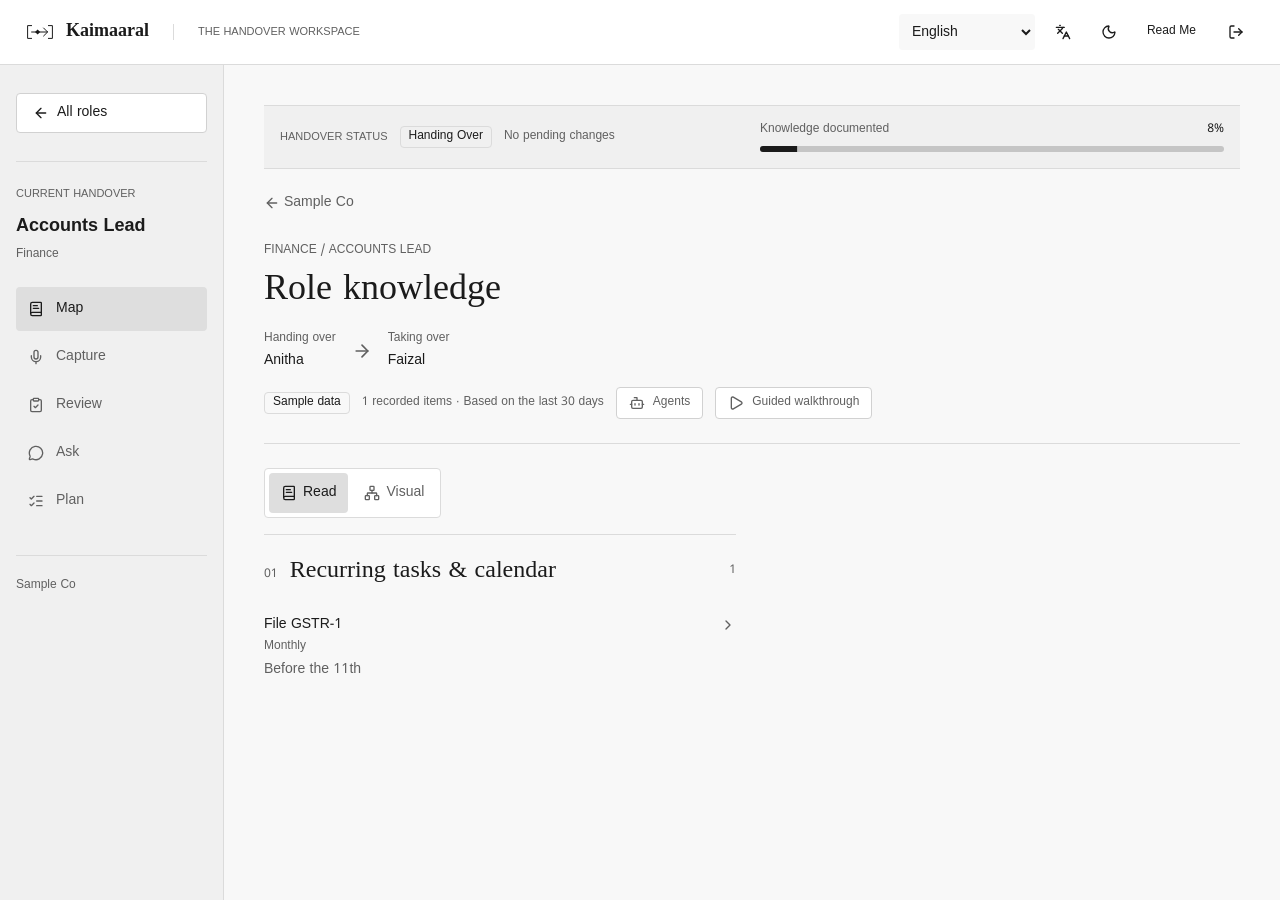
Test: Role page tabs › Ask tab sends a question and shows the answer
The image size is (1280, 900).
Click the tab "Ask" at [112, 453], box [16,431,207,475]
(page scrolled)
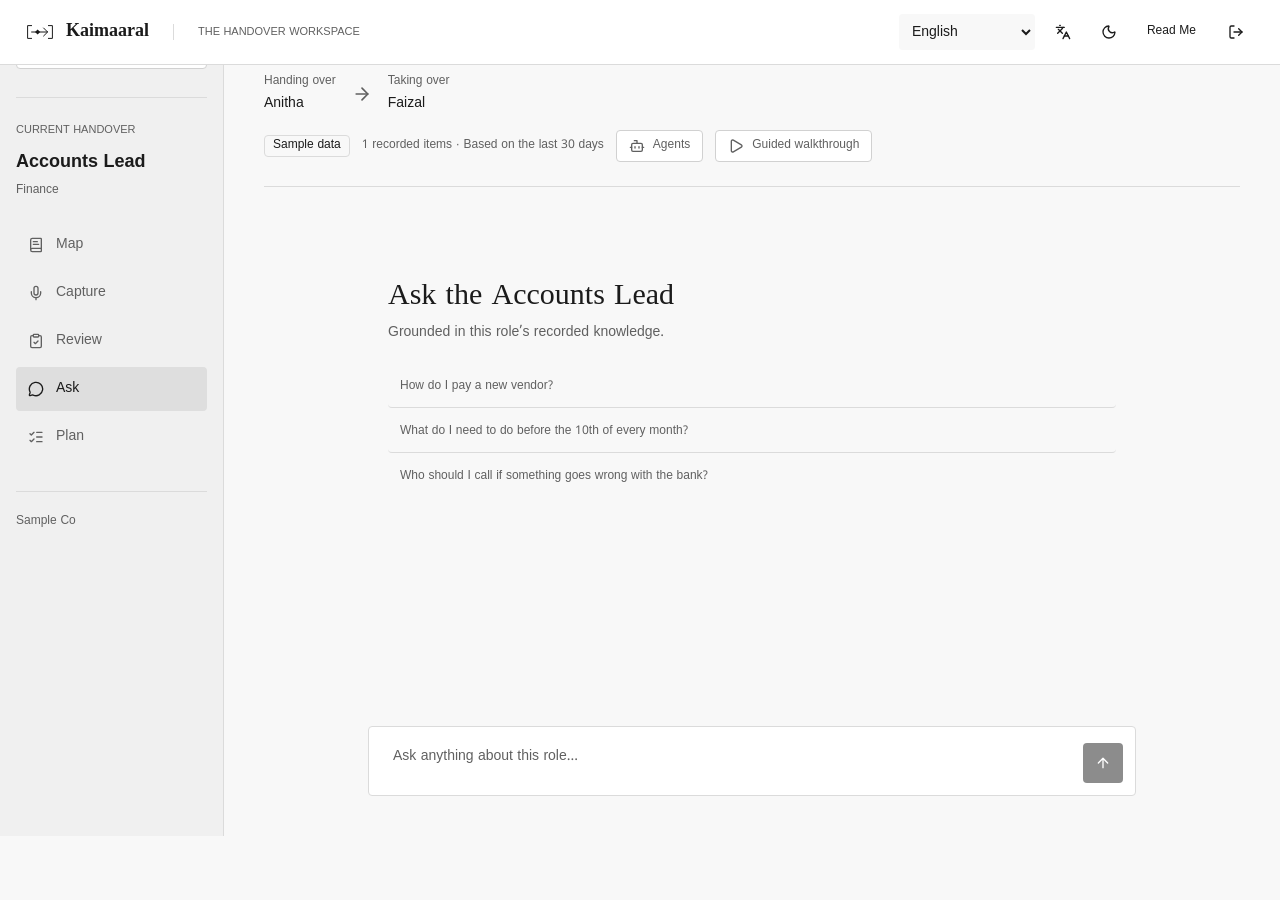
Type "How do I pay?" into the text box named "Your question" at [728, 761], box [381,739,1075,783]
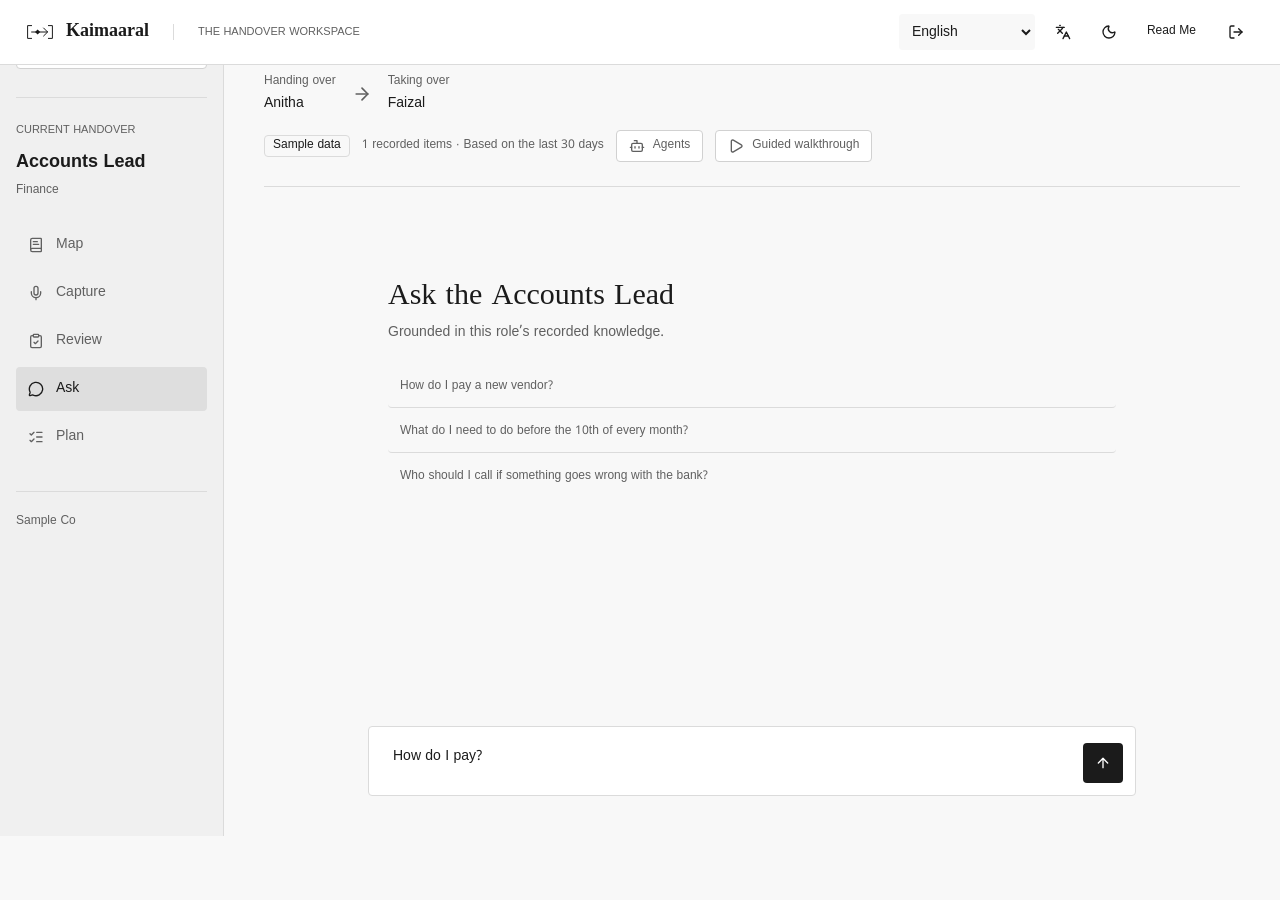
Click the button named "Send" at [1103, 763], box [1083,743,1123,783]
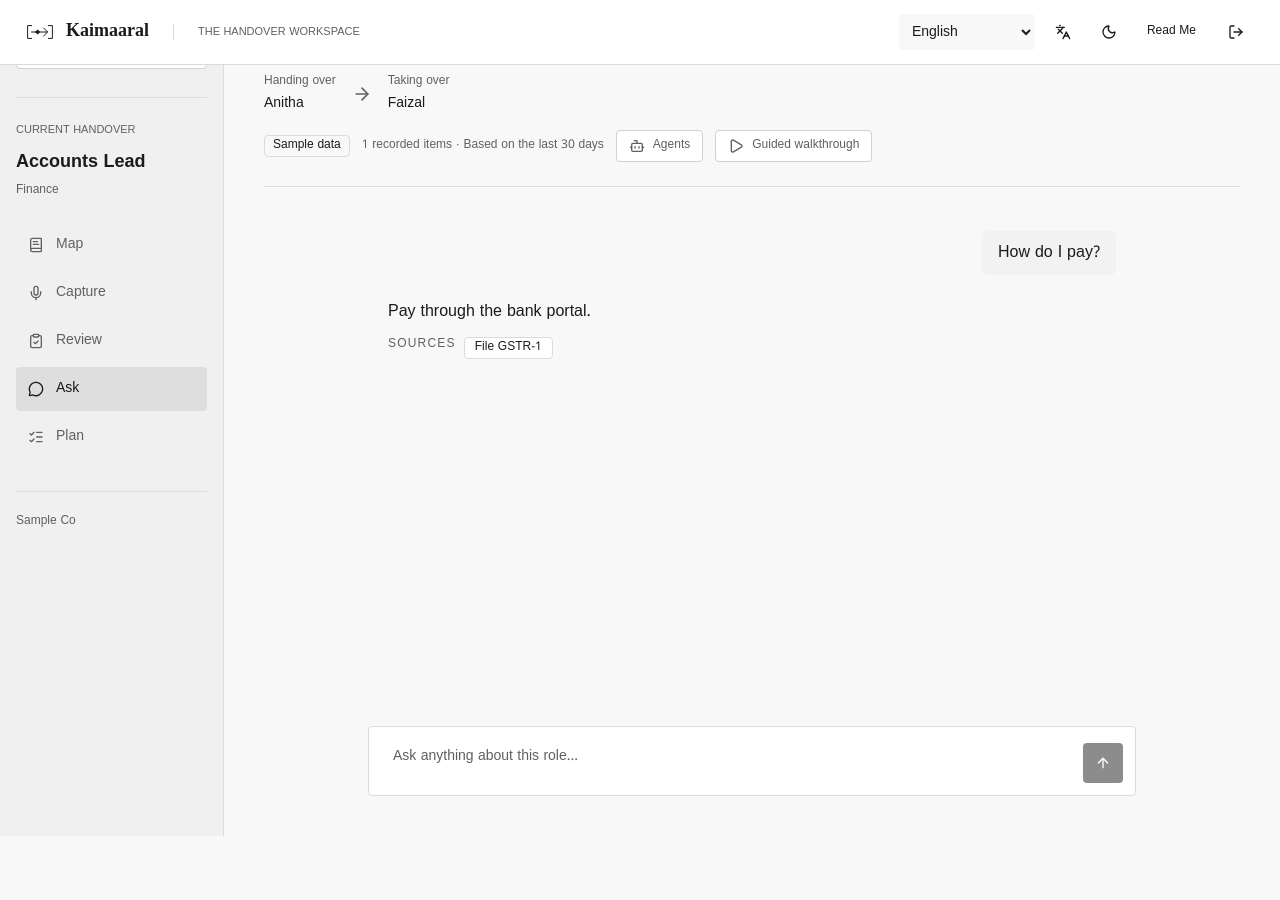
Expected: the text "Pay through the bank portal." is shown, [388,302,591,322]
